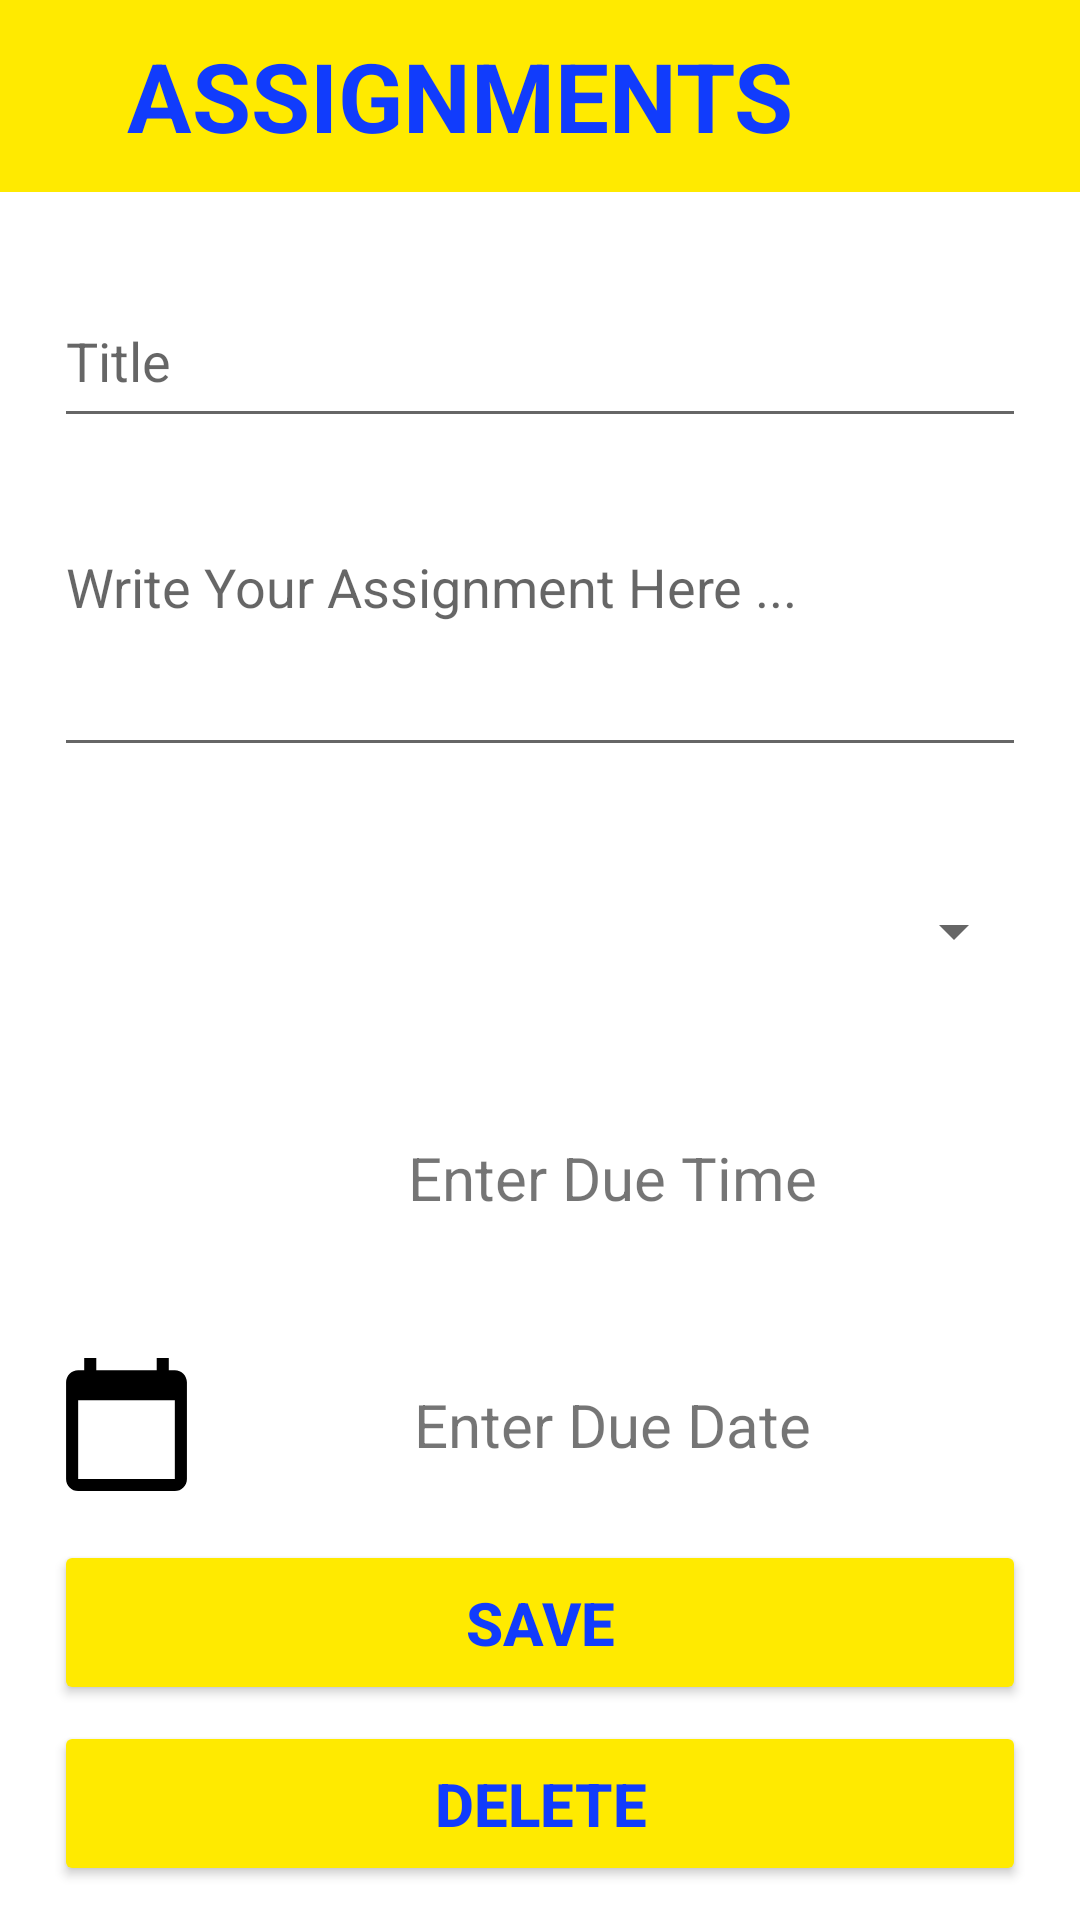

Screen size 1080 x 1920. Icon name, then its center in pixels as point (x, y):
calendar today: point (126, 1424)
